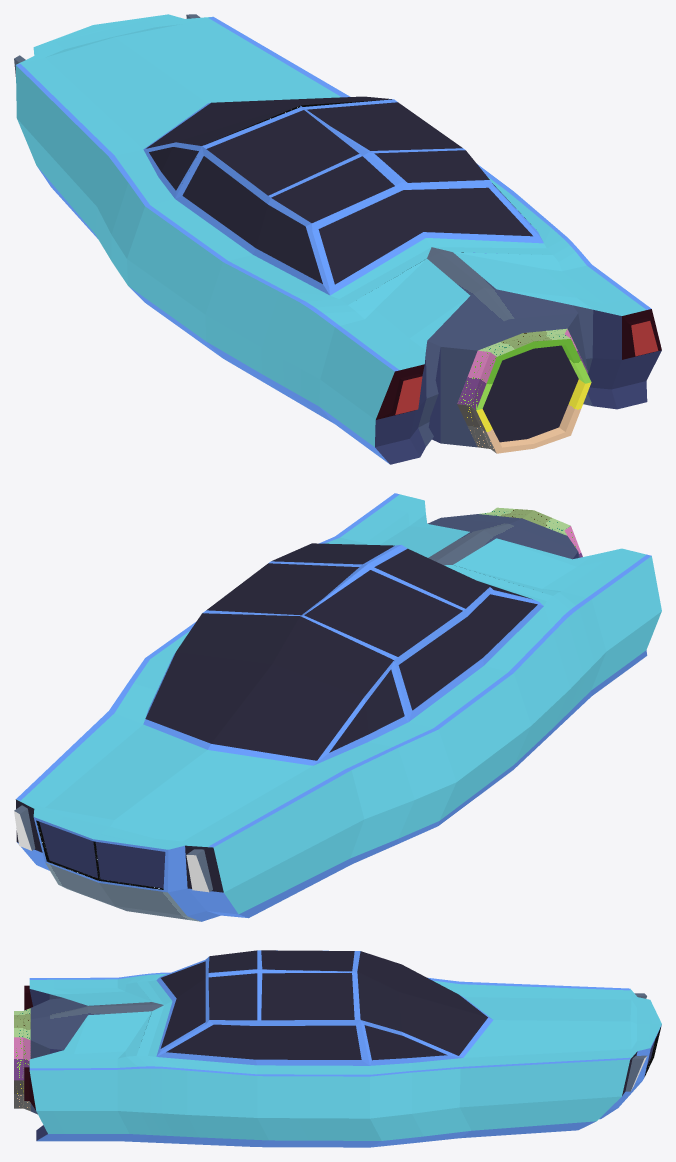
The model's file is cuba_car_blue.glb.
3 views of the same model, one above another, from view 1: azimuth 30°, elevation 25°; view 2: azimuth 150°, elevation 25°; view 3: azimuth 270°, elevation 25° (orthographic). The views are drawn at different scales.
Parts seen in each view (by area): view 1: Cube; view 2: Cube; view 3: Cube.
Part boxes in pixels (x1,y1,x2,y2): Cube: (14,14,661,464); Cube: (14,493,661,921); Cube: (14,950,661,1147).
Bounding box in the file's own units: 2.41 × 1.22 × 5.59.
1 material, 1 textured.
